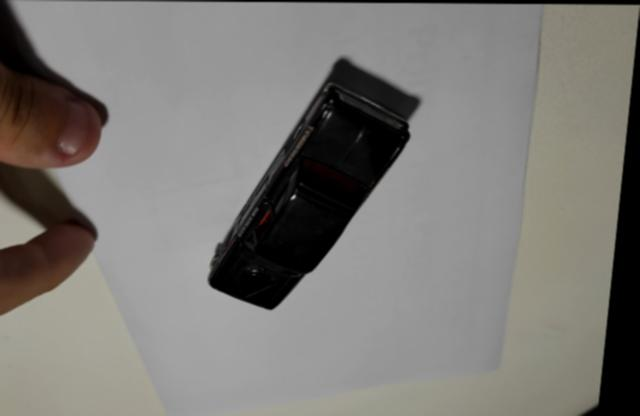01_FORD: (213, 56, 424, 309)
